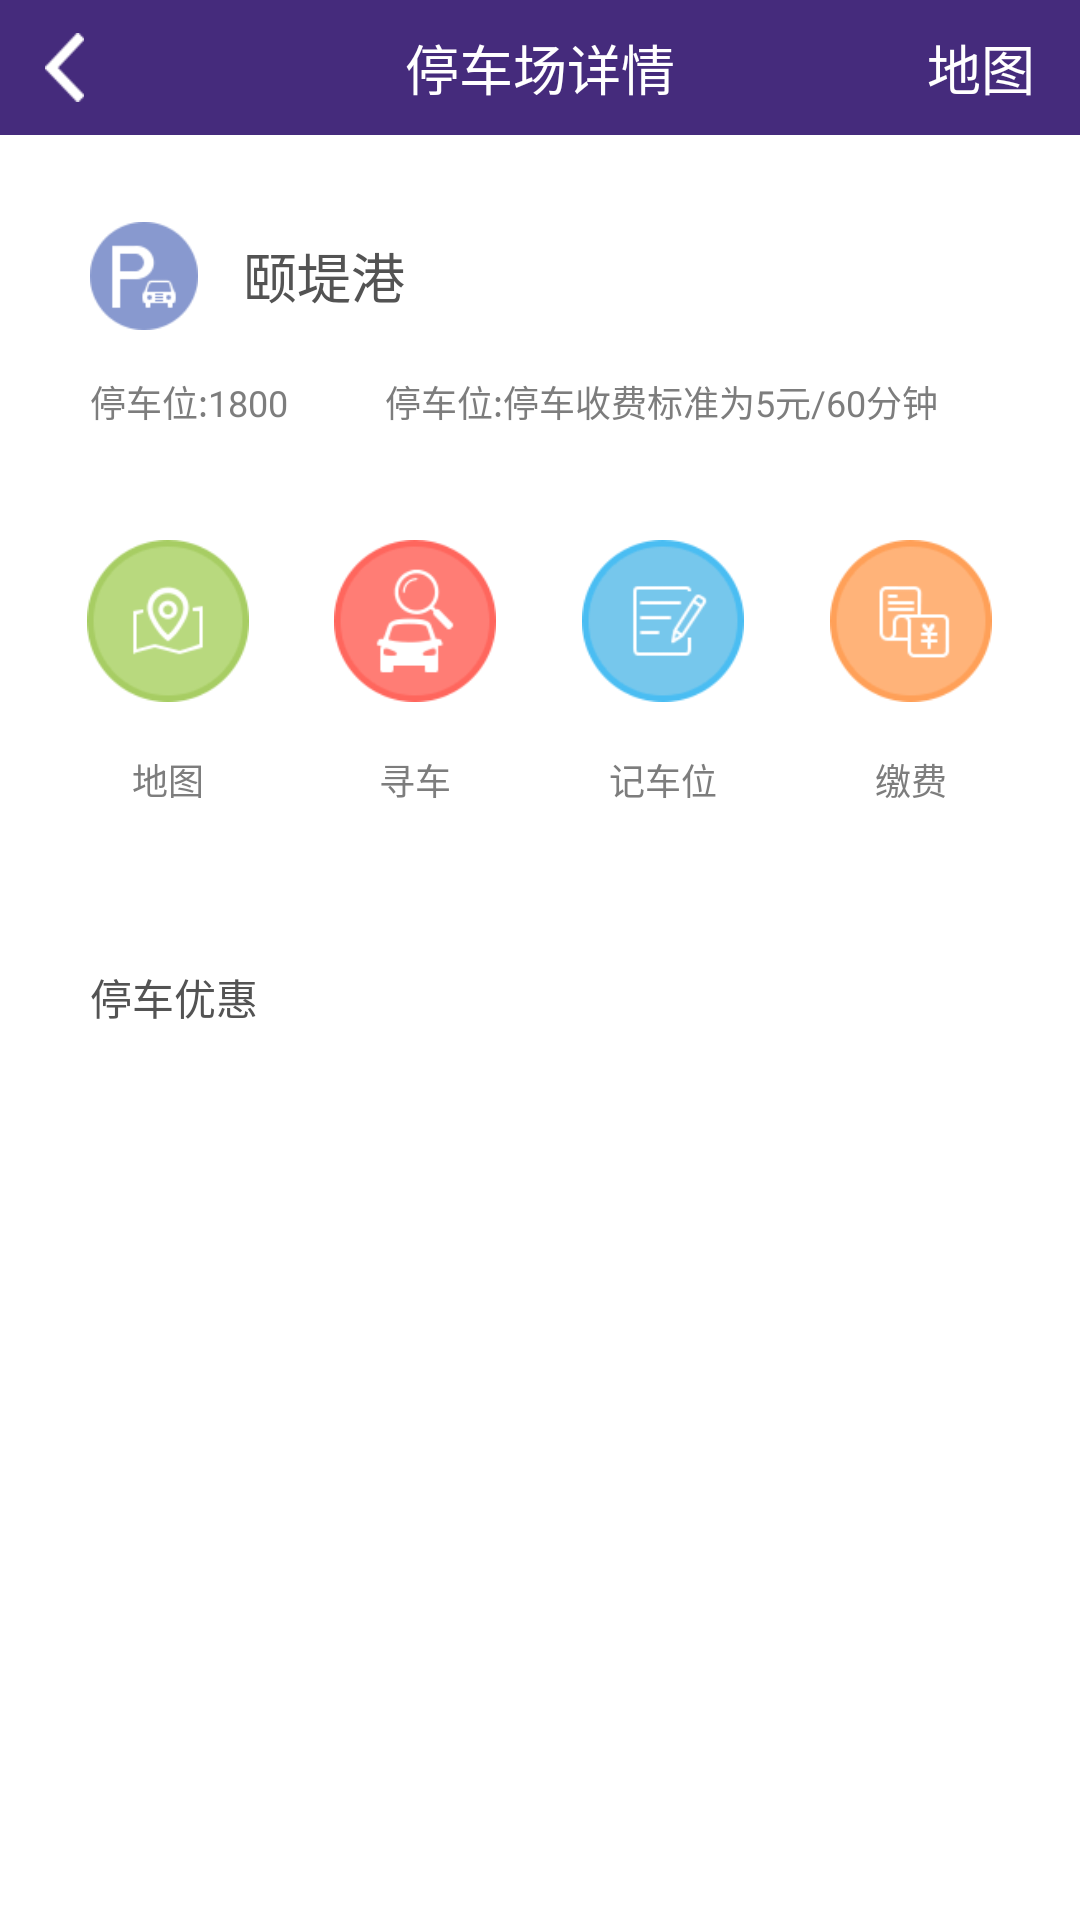

Locate icon controls on the screen. Image size 1080px×1920px, boxes as (left=x1, top=y1, right=x2, bottom=y2).
ditu: (left=87, top=540, right=249, bottom=702)
jiaofei: (left=830, top=540, right=992, bottom=702)
jichewei: (left=582, top=540, right=744, bottom=702)
xunche: (left=334, top=540, right=496, bottom=702)
